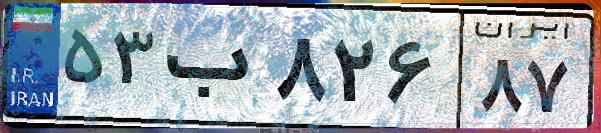2: (330, 28, 385, 110)
3: (110, 28, 158, 98)
5: (57, 26, 110, 100)
6: (385, 28, 445, 110)
7: (525, 38, 570, 115)
8: (270, 28, 330, 110), (475, 38, 525, 113)
ب: (158, 20, 270, 120)
